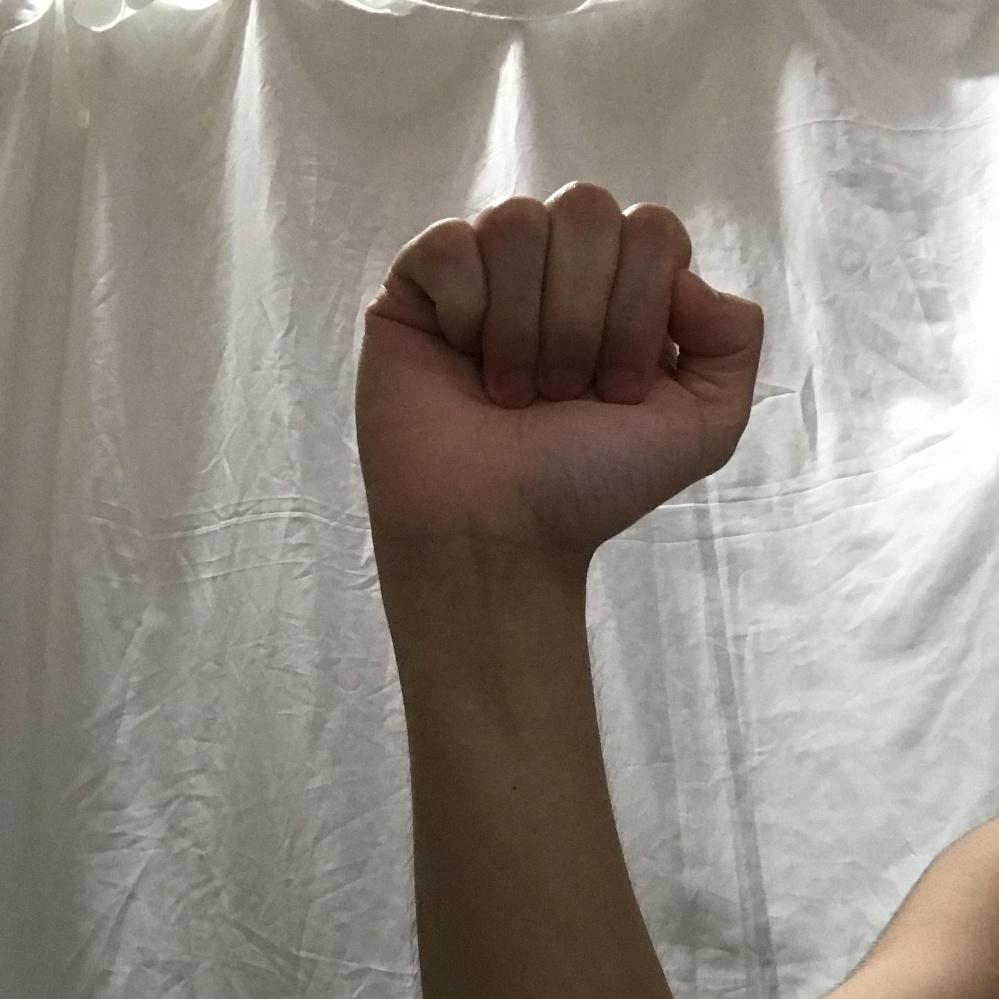a: (355, 180, 764, 540)
